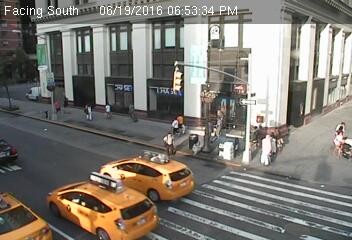neg: (204, 26, 222, 49), (42, 71, 57, 91), (161, 97, 173, 114), (337, 84, 349, 101), (80, 80, 91, 95), (316, 87, 327, 101)
pos: (252, 129, 280, 167), (264, 134, 285, 162), (330, 129, 350, 156), (123, 100, 141, 124), (161, 132, 179, 155), (168, 117, 183, 137), (174, 113, 189, 133), (81, 102, 96, 122), (99, 100, 113, 120), (50, 98, 63, 115), (338, 119, 347, 131)
